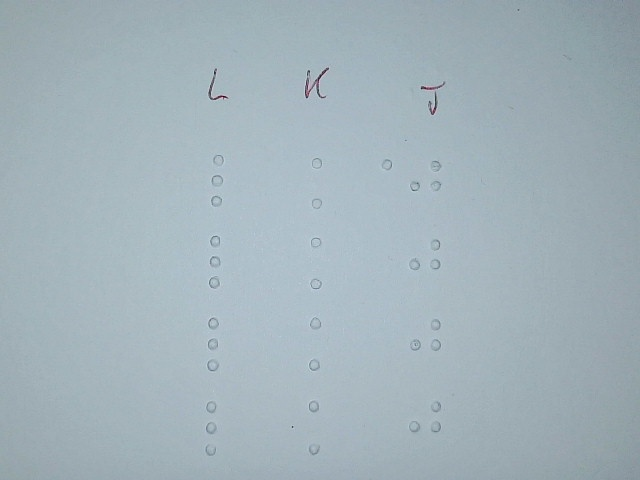J: (408, 151, 443, 206), (407, 231, 442, 286), (408, 312, 443, 367), (408, 392, 443, 447)
K: (301, 153, 346, 212), (302, 233, 347, 292), (300, 314, 345, 373), (298, 397, 343, 456)
L: (202, 151, 247, 210), (199, 232, 244, 291), (197, 313, 242, 372), (195, 398, 240, 457)
